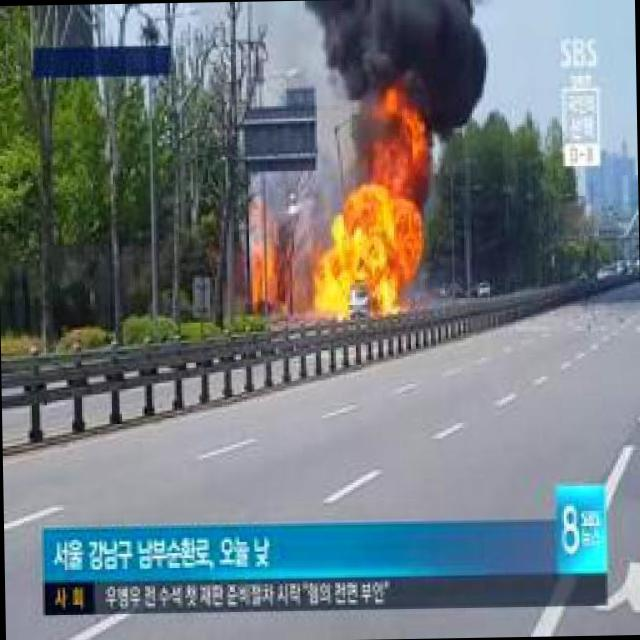Fire: (346, 188, 404, 308), (318, 239, 347, 316), (250, 253, 273, 309)
